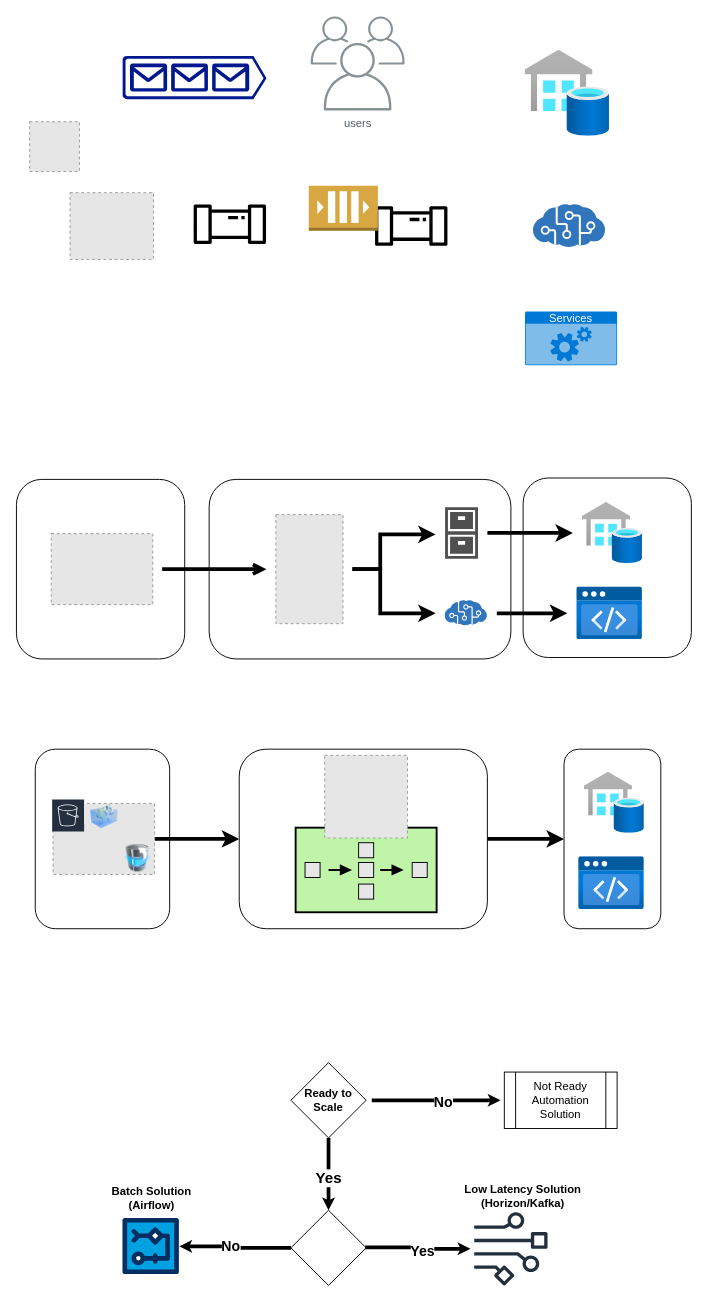
The diagram is 708 pixels wide and 1302 high, and some of its shapes have lost their labels. Grey dashed boxes stand in for pictures. The shapes that lost their labels are listed below. From the top down, each one's centre as x and y in pixels, then its label:
At pixel 67 811: "Amazon S3".
At pixel 328 1247: "Time Critial".
